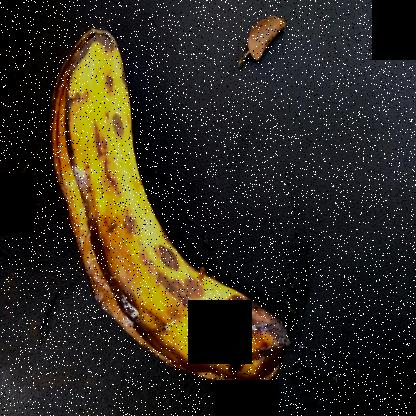rotten: (43, 32, 300, 403)
